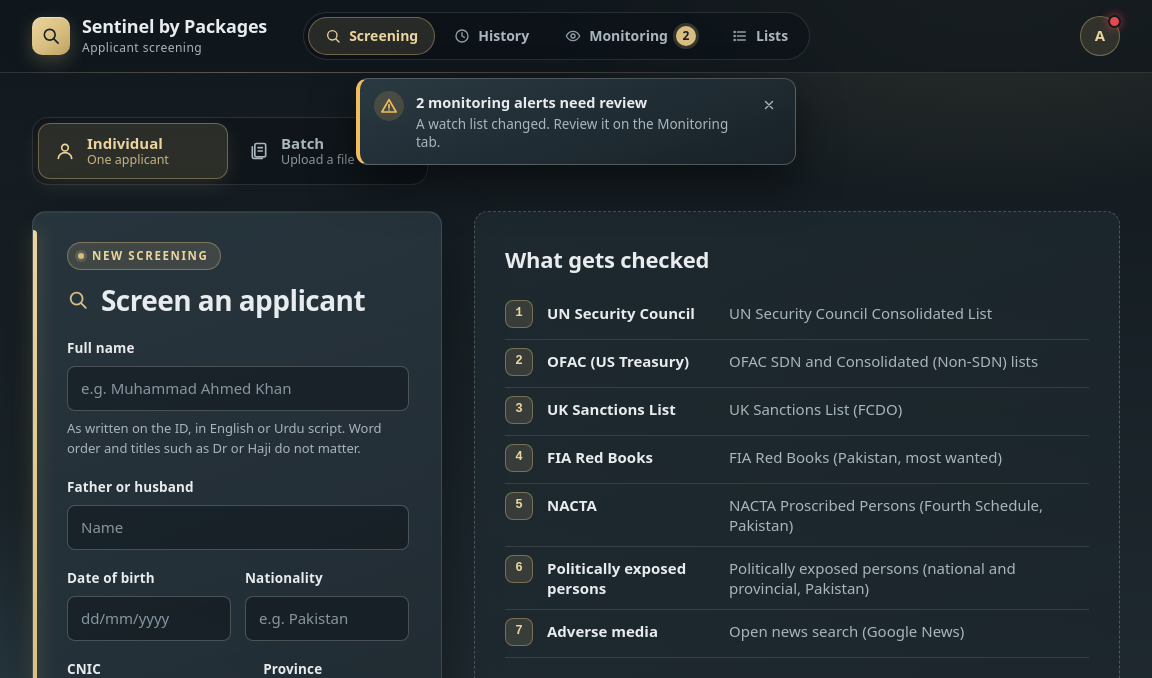
Test: notification of a new match › tells the person in the app, puts the count on the Monitoring tab, and opens the alerts
Expected: the text "2 monitoring alerts need review" is shown, [416, 92, 647, 112]
Expected: the text named "2 to review" is shown, [676, 26, 696, 46]
Click the button "Monitoring 2" at (631, 36), box [548, 17, 713, 55]
(page scrolled)
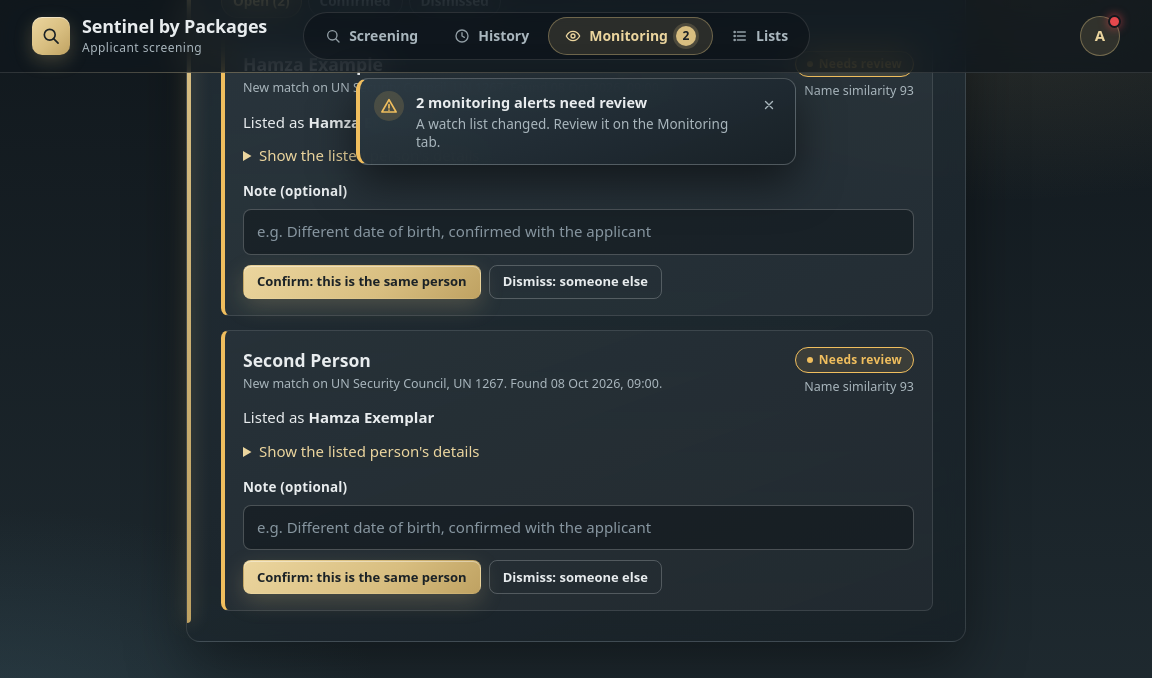
Expected: the heading "Hamza Example" is shown, [243, 52, 383, 76]
Expected: the heading "Second Person" is shown, [243, 348, 371, 372]
